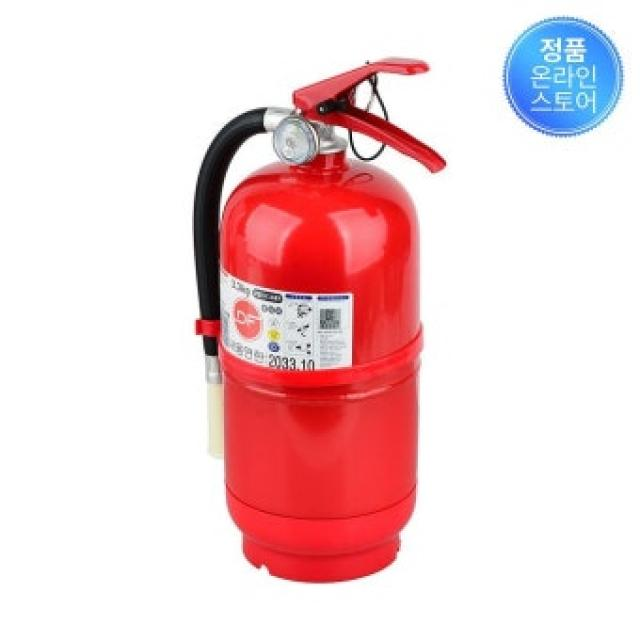pressure gauge: (273, 115, 319, 165)
